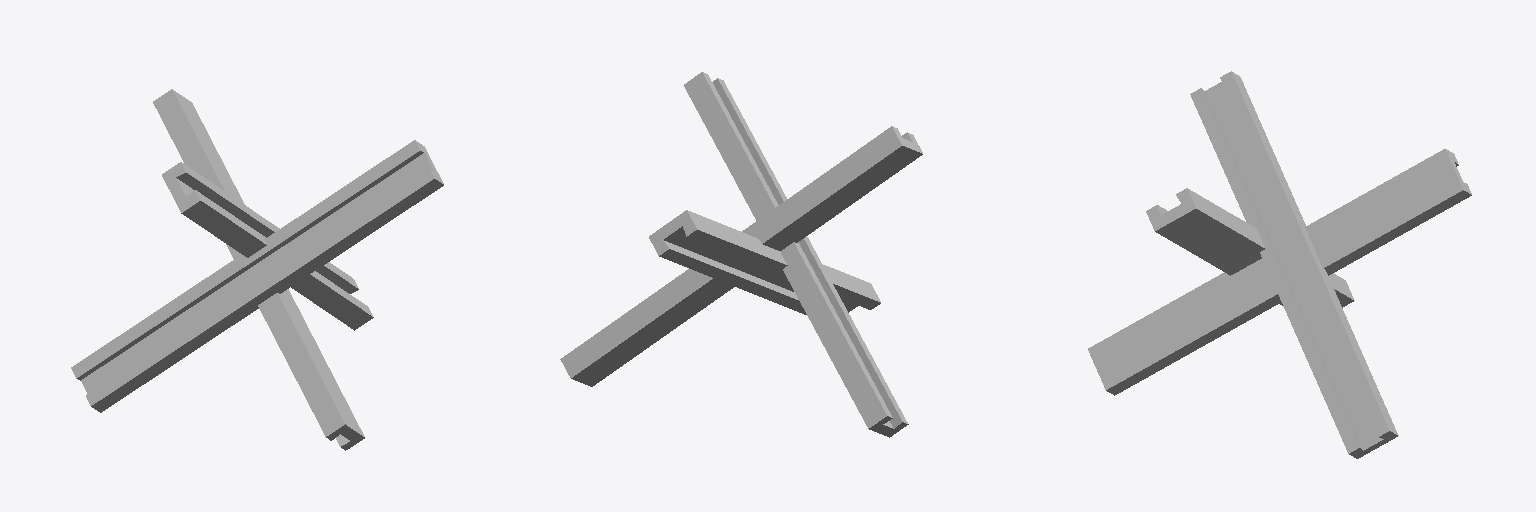
Rendered from hedgehog_001.obj.
The picture shows the model from 3 angles: view 1: azimuth 30°, elevation 25°; view 2: azimuth 150°, elevation 25°; view 3: azimuth 270°, elevation 25°; orthographic projection.
Parts seen in each view (by area): view 1: hedgehog_001; view 2: hedgehog_001; view 3: hedgehog_001.
Boxes of the visible parts, x1,y1,x2,y2 form: hedgehog_001: [71, 89, 443, 450]; hedgehog_001: [560, 72, 922, 437]; hedgehog_001: [1088, 71, 1471, 458].
Bounding box in the file's own units: 1.45 × 1.23 × 1.58.